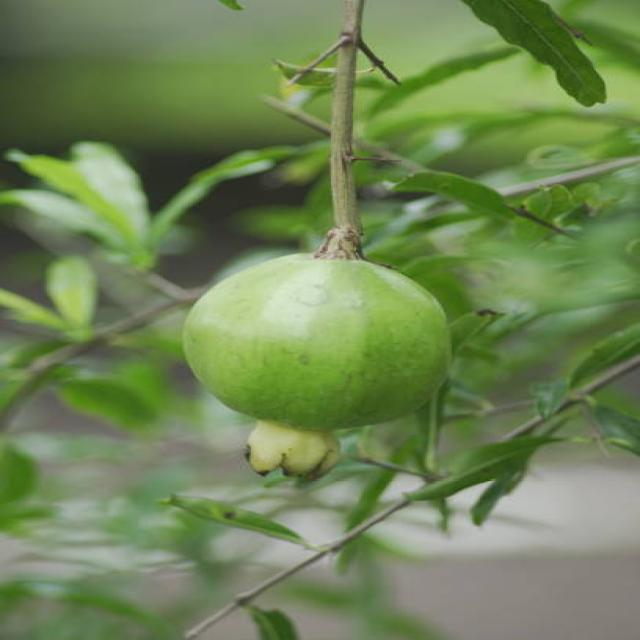Unripe: (185, 251, 454, 487)
